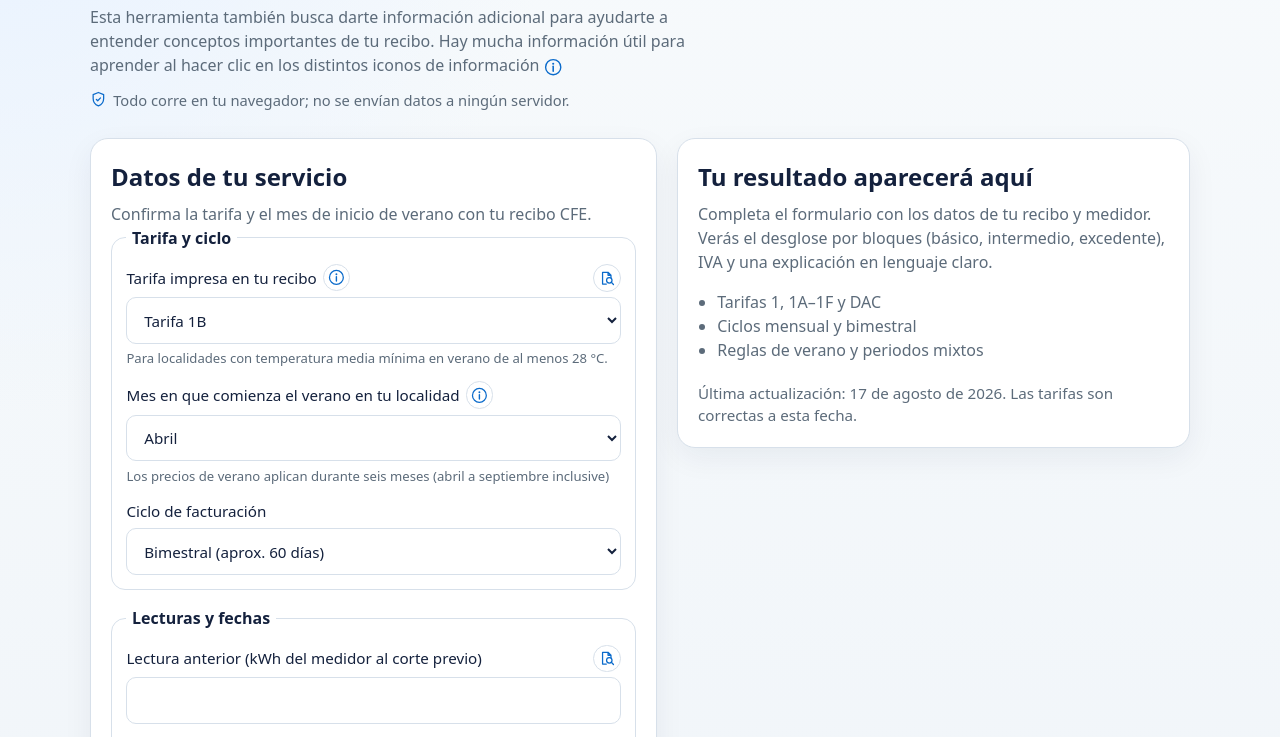
Test: App › expands DAC risk when current usage is in the monthly DAC window even without expert mode
Select "Mayo" in the dropdown labelled "Mes en que comienza el verano en tu localidad" at x=374, y=438, box [126,415,621,461]
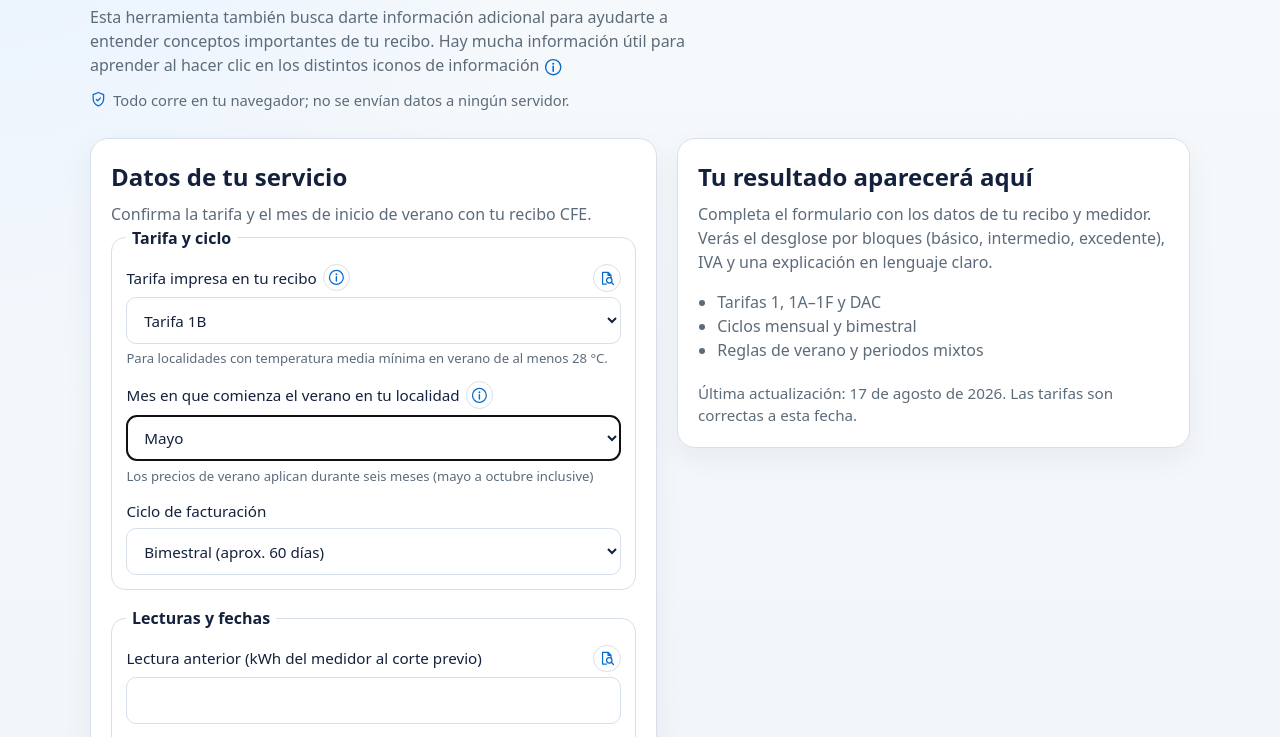
Type "1000" into the number field labelled "Lectura anterior (kWh del medidor al corte previo)" at x=374, y=701, box [126,677,621,724]
(page scrolled)
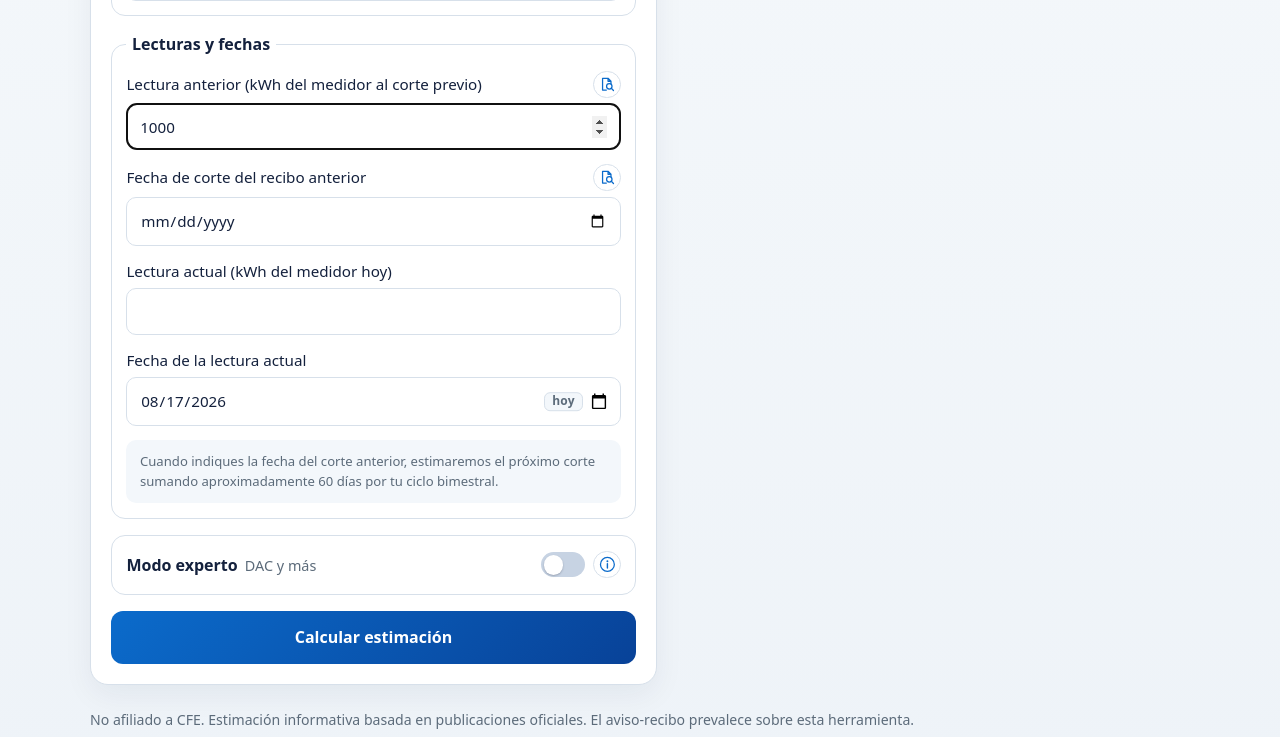
Type "1240" into the number field labelled "Lectura actual (kWh del medidor hoy)" at x=374, y=312, box [126,288,621,335]
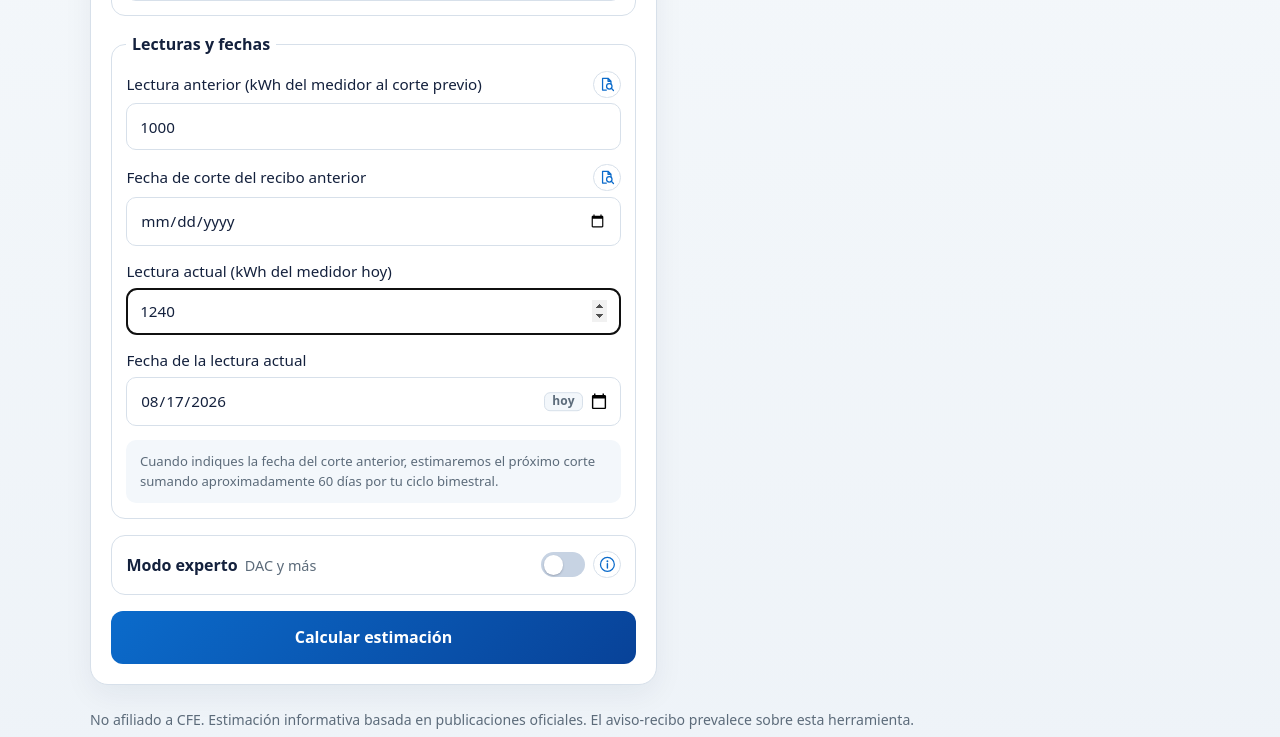
Type "2026-06-30" into the date field labelled "Fecha de corte del recibo anterior" at x=374, y=221, box [126,197,621,246]
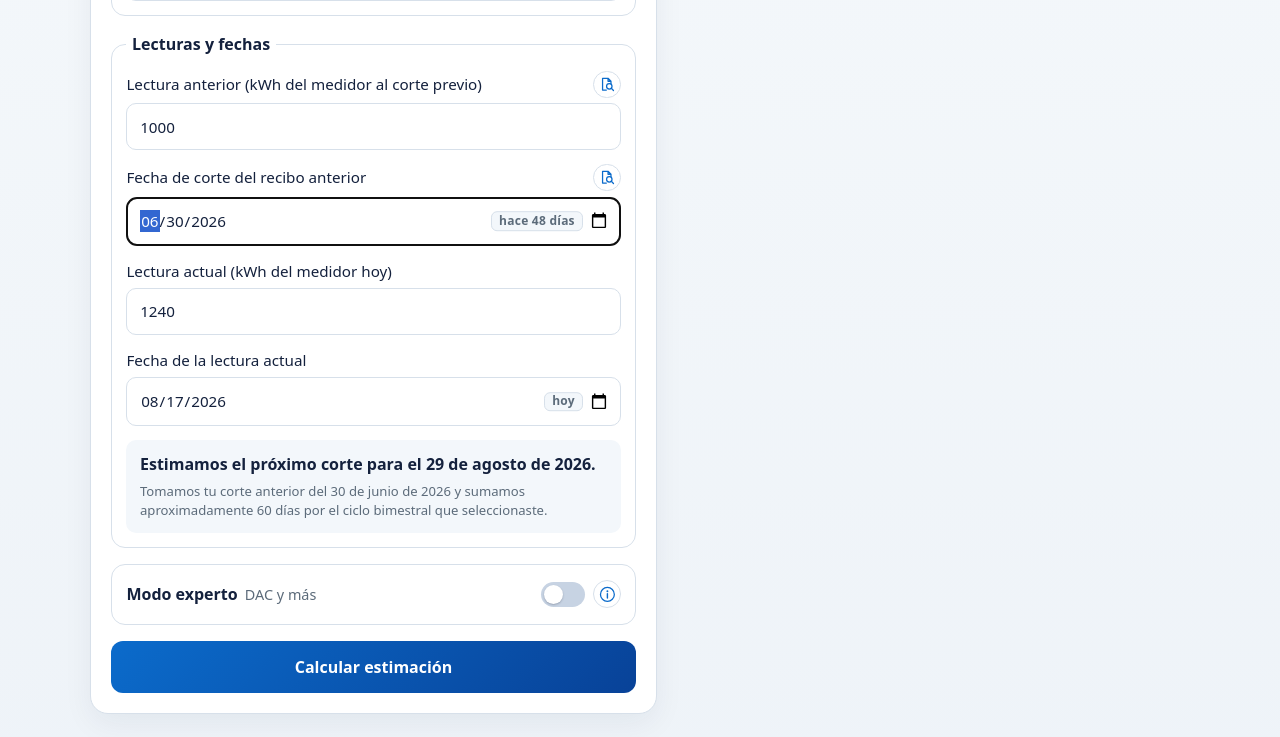
Type "2026-07-16" into the date field labelled "Fecha de la lectura actual hoy" at x=374, y=402, box [126,377,621,426]
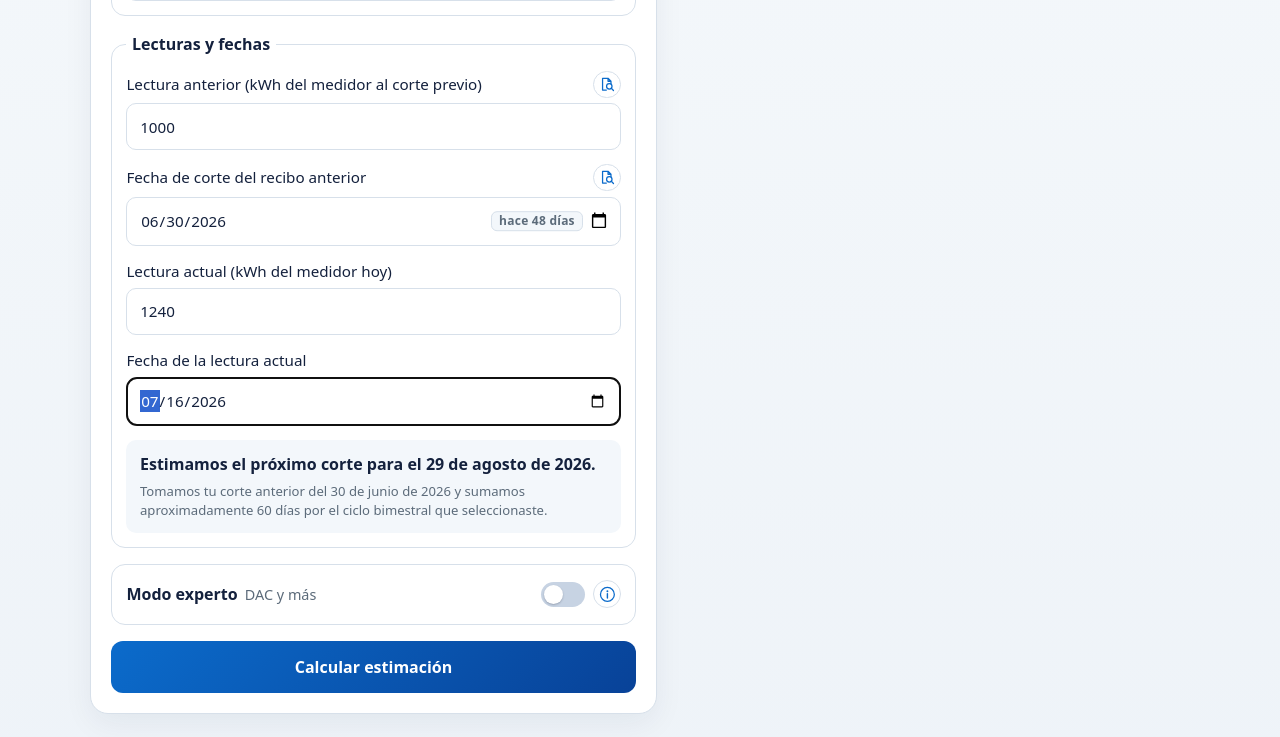
Click the button "Calcular estimación" at x=374, y=667, box [111,641,636,693]
(page scrolled)
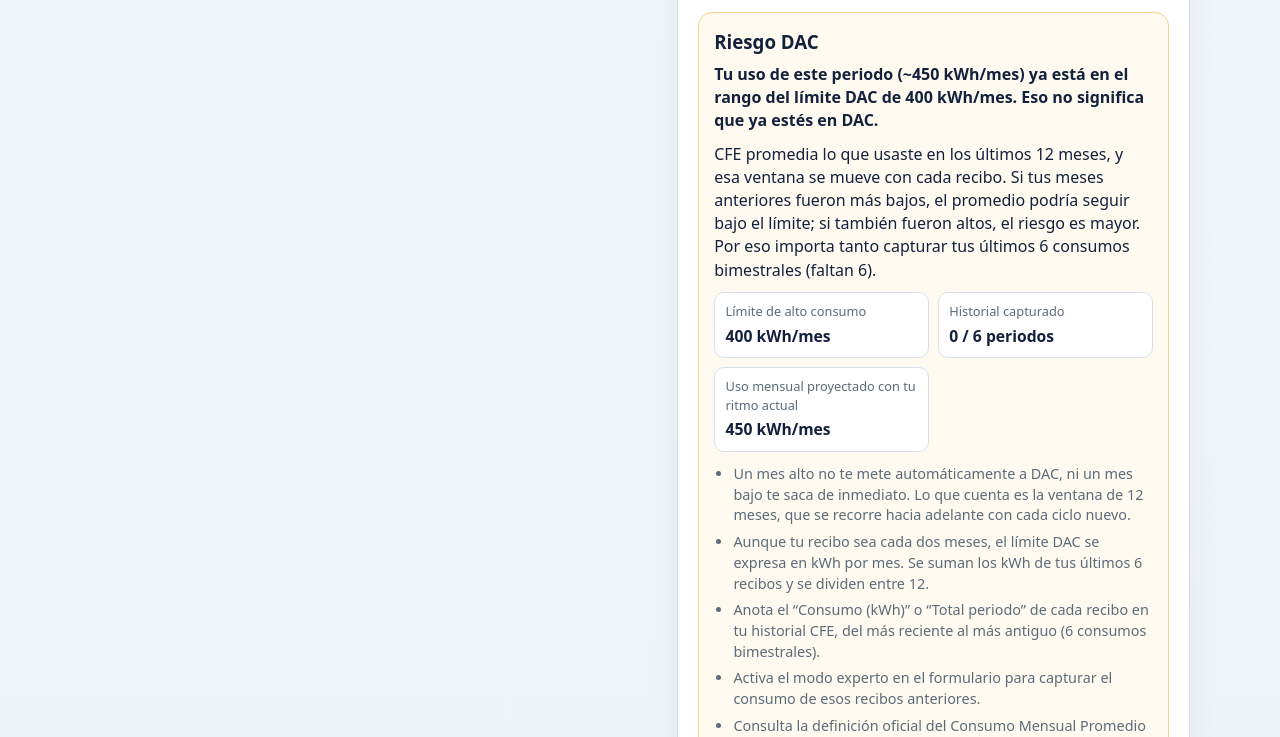
Expected: the heading "Riesgo DAC" is shown, [714,28,819,54]
Expected: the text "Eso no significa que ya estés en DAC" is shown, [714,63,1144,131]
Expected: the text "esa ventana se mueve con cada recibo" is shown, [714,143,1140,281]
